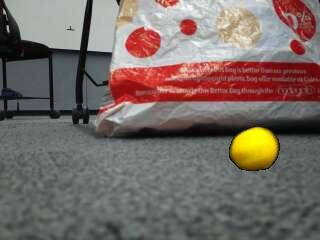lemon: (231, 128, 280, 171)
